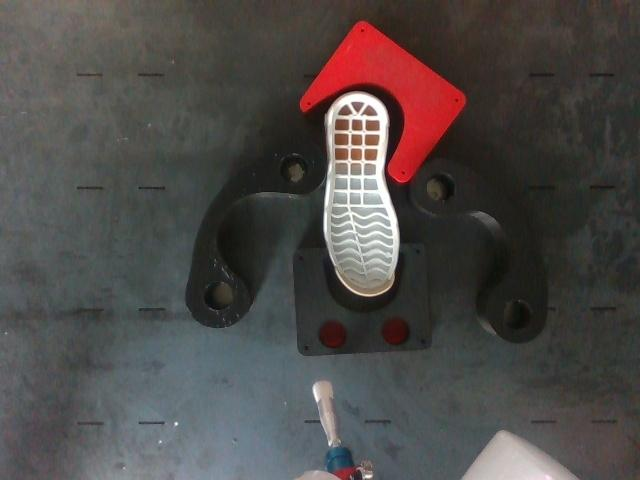shoes: (327, 94, 398, 295)
